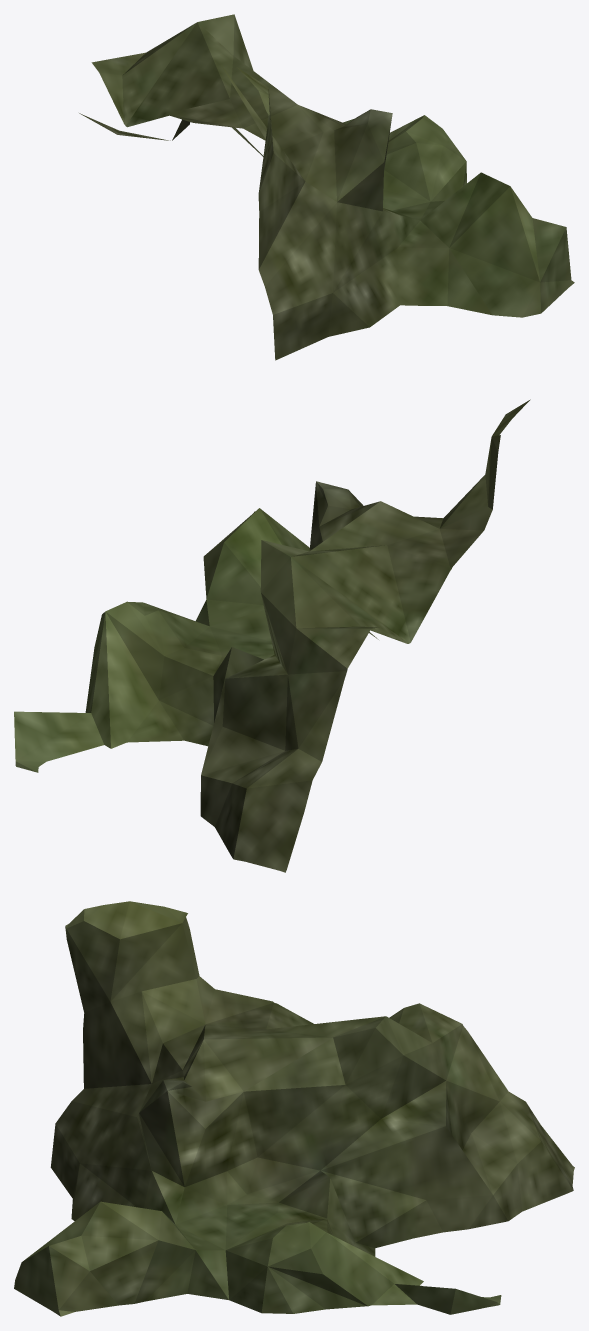
3 renders of one model, top to bottom at view 1: azimuth 30°, elevation 25°; view 2: azimuth 150°, elevation 25°; view 3: azimuth 270°, elevation 25°, orthographic. The views are drawn at different scales.
Bounding box in the file's own units: 1.31 × 1.09 × 2.07.
Materials: 1 (1 with a texture image).
